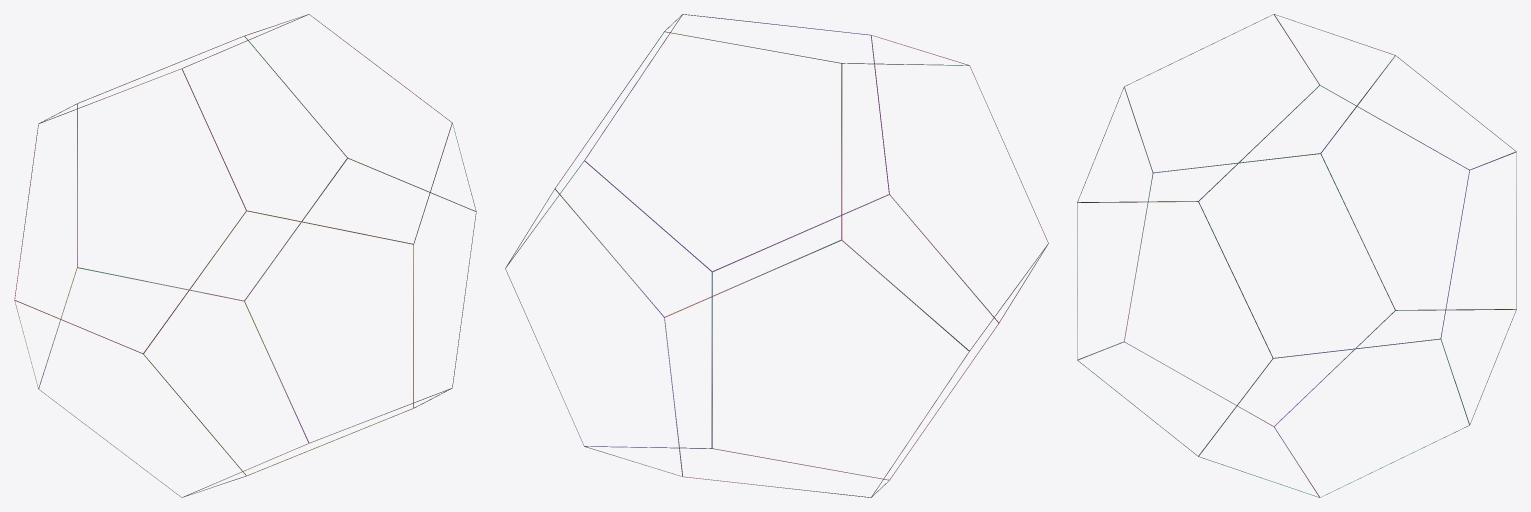
File: zeometry-wireframes-wire-dodecahedron_v5.glb
3 views of the same model, side by side, from view 1: azimuth 30°, elevation 25°; view 2: azimuth 150°, elevation 25°; view 3: azimuth 270°, elevation 25° (orthographic). The views are drawn at different scales.
Visible parts, largest first — view 1: Wire Dodecahedron_v5; view 2: Wire Dodecahedron_v5; view 3: Wire Dodecahedron_v5.
Part boxes in pixels (box(x1,y1,x2,y2)): Wire Dodecahedron_v5: box(14, 14, 476, 497); Wire Dodecahedron_v5: box(505, 14, 1048, 497); Wire Dodecahedron_v5: box(1077, 14, 1516, 497).
Bounding box in the file's own units: 0.5 × 0.4693 × 0.4527.
